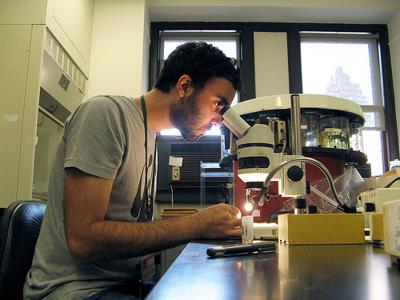person: (22, 42, 247, 299)
